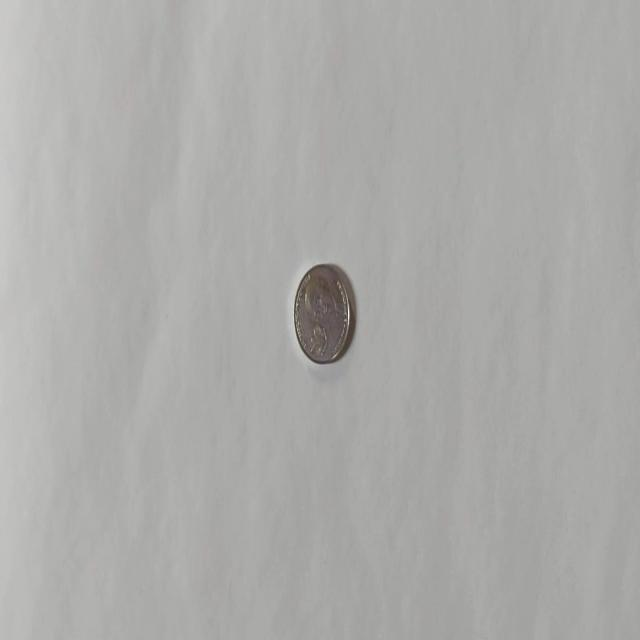lima ratus rupiah: (293, 262, 352, 364)
